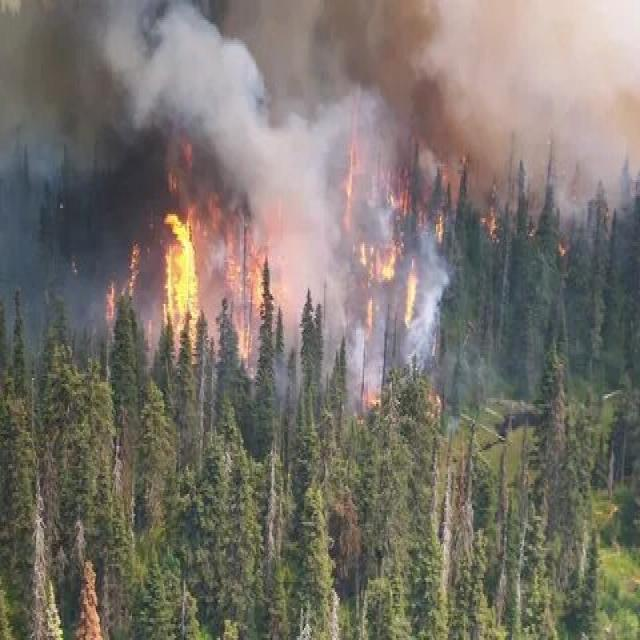Fire: (139, 176, 288, 354), (346, 201, 431, 331)
Smoke: (0, 0, 640, 191)
